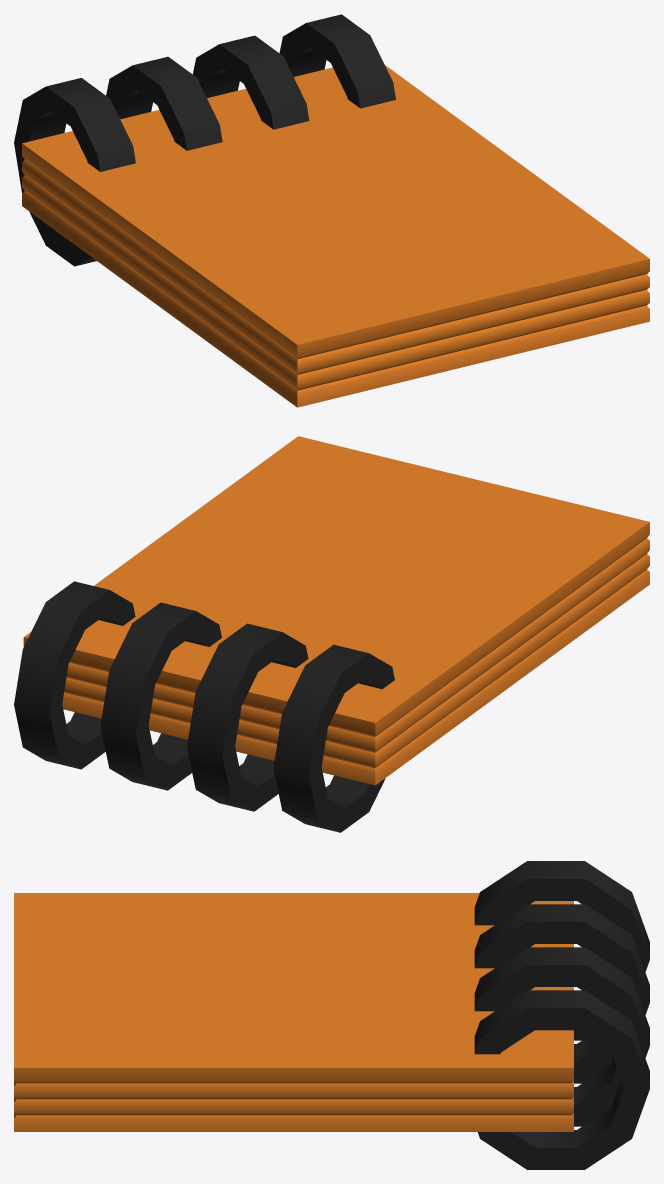
The model's file is Notebook.fbx.
3 renders of one model, top to bottom at view 1: azimuth 30°, elevation 25°; view 2: azimuth 150°, elevation 25°; view 3: azimuth 270°, elevation 25°, orthographic.
Parts seen in each view (by area): view 1: Notebook; view 2: Notebook; view 3: Notebook.
Part boxes in pixels (x1,y1,x2,y2): Notebook: (14, 14, 649, 407); Notebook: (14, 436, 649, 832); Notebook: (14, 861, 649, 1169).
Bounding box in the file's own units: 0.274 × 0.1182 × 0.4208.
